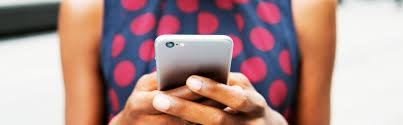Hand: (175, 71, 282, 125), (127, 73, 196, 125)
Smartphone: (158, 34, 228, 97)
